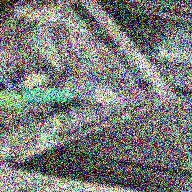씨엠지세파클러캡슐: (0, 73, 49, 92)
에르도캡슐: (22, 89, 74, 104)
휴티렌정: (0, 91, 26, 110)
